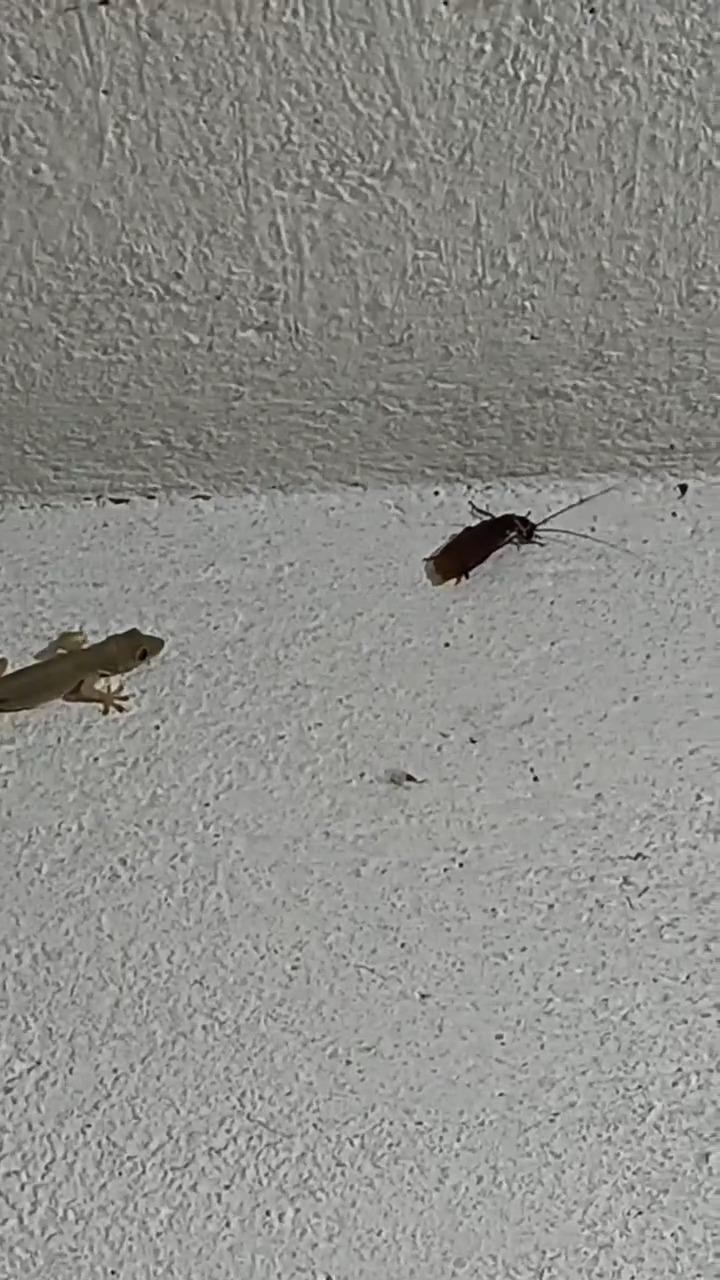cockroach: (395, 490, 623, 592)
lizard: (0, 598, 189, 714)
